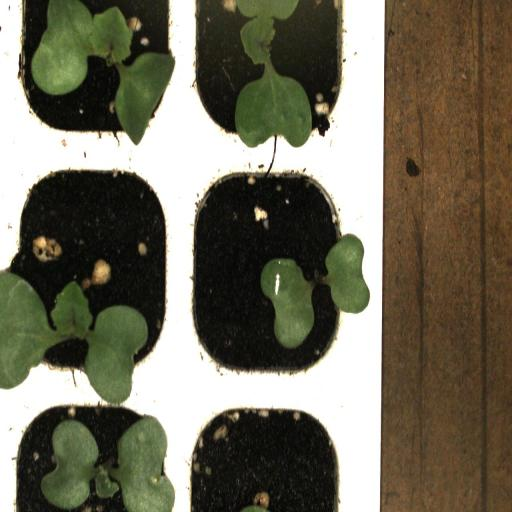Folha: (260, 258, 314, 349), (325, 235, 370, 314)
Germinacao: (176, 157, 364, 387), (7, 160, 174, 388), (9, 0, 178, 162), (181, 0, 356, 156), (7, 390, 184, 512)
